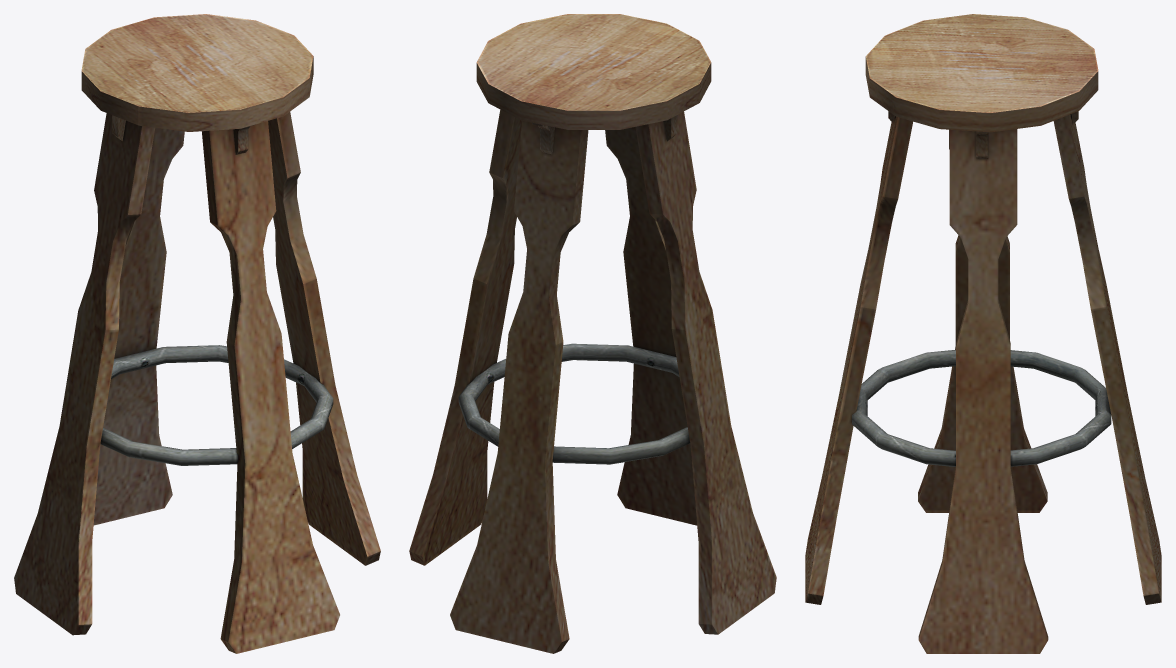
Rendered from barstool-1.FBX.
The picture shows the model from 3 angles, left to right: view 1: azimuth 30°, elevation 25°; view 2: azimuth 150°, elevation 25°; view 3: azimuth 270°, elevation 25°; orthographic projection.
Parts seen in each view (by area): view 1: barstool-1_LOD0; view 2: barstool-1_LOD0; view 3: barstool-1_LOD0.
Part boxes in pixels (x1,y1,x2,y2): barstool-1_LOD0: (14,14,380,653); barstool-1_LOD0: (409,14,776,653); barstool-1_LOD0: (805,14,1161,653).
Size of what is drawn, in the model's own units: 21.2 by 34.11 by 21.26.
